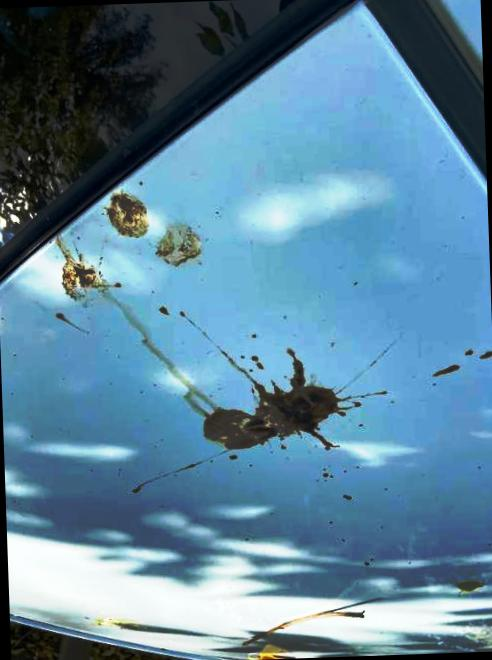Bird Poop: (123, 312, 346, 450), (132, 451, 227, 493), (57, 238, 109, 299), (107, 193, 148, 238), (156, 228, 200, 266), (434, 367, 458, 377), (481, 351, 492, 360), (133, 485, 143, 493), (159, 308, 168, 315), (56, 314, 65, 320), (354, 402, 361, 408), (465, 351, 472, 356), (344, 496, 351, 500), (229, 456, 236, 460)
